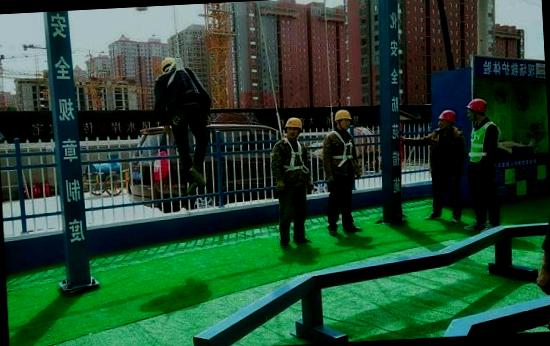helmet: (466, 98, 491, 118), (285, 114, 306, 132), (332, 108, 354, 122), (440, 106, 456, 122)
no_vest: (427, 126, 466, 179), (324, 130, 358, 181), (272, 139, 308, 187)
person: (145, 55, 215, 192), (313, 108, 370, 234), (267, 116, 317, 249), (462, 95, 506, 229), (423, 107, 471, 222)
